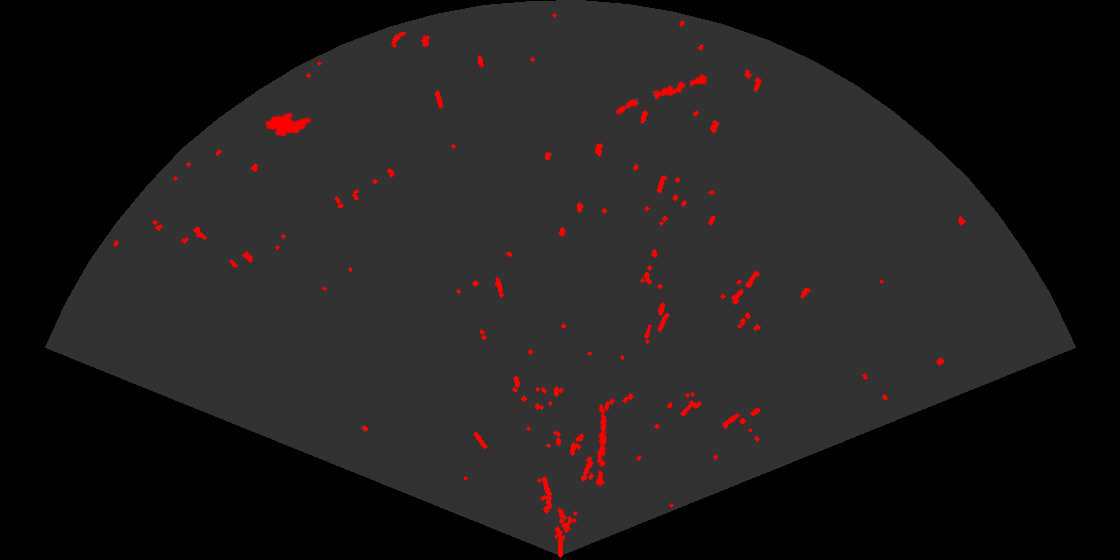AUV: (263, 111, 313, 138)
chain: (614, 72, 709, 116), (594, 402, 609, 487)
